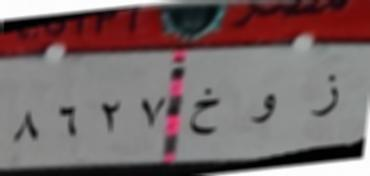2: (96, 94, 125, 138)
6: (52, 101, 78, 138)
7: (136, 89, 167, 132)
8: (6, 104, 40, 147)
khaa: (187, 83, 222, 142)
waw: (250, 88, 279, 134)
zay: (304, 69, 344, 126)
